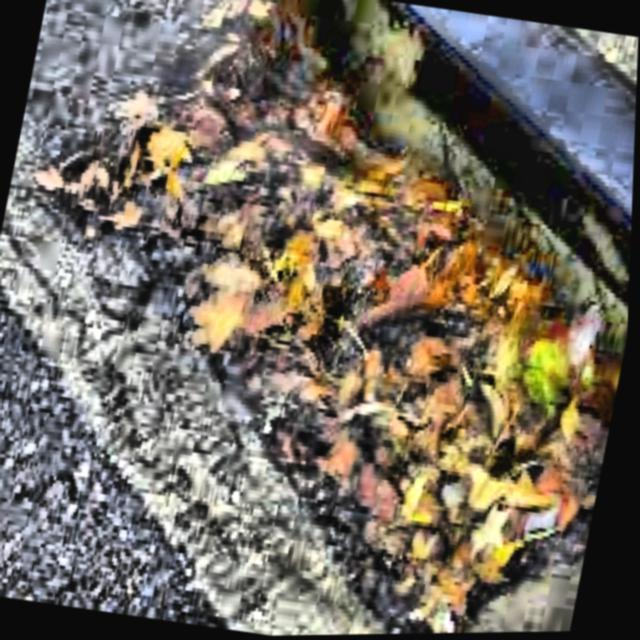clogged_drains: (8, 0, 631, 636)
